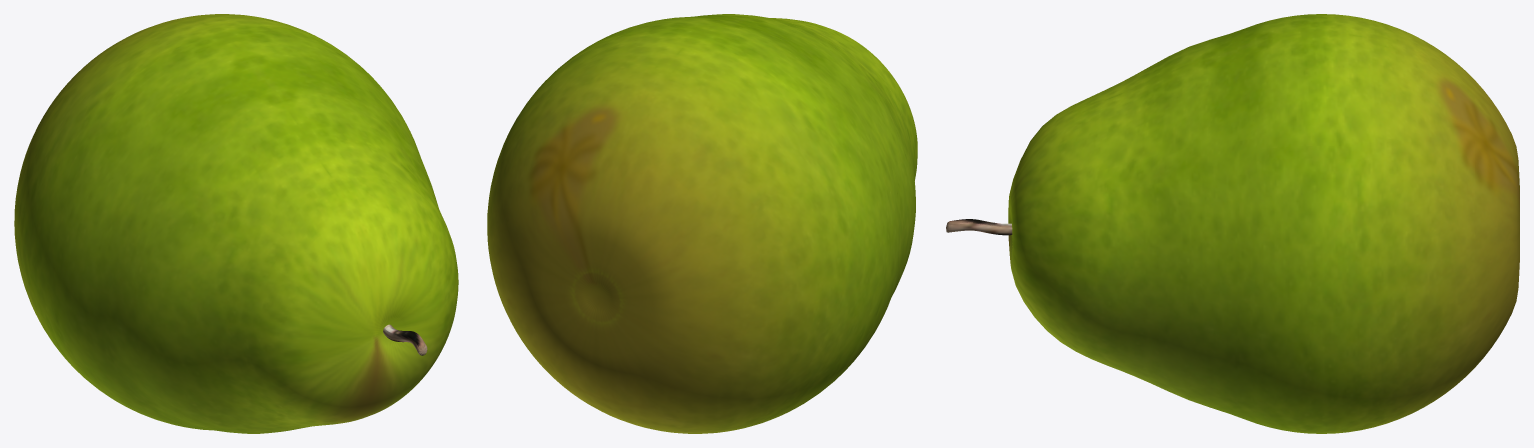
The model's file is pear.obj.
3 views of the same model, side by side, from view 1: azimuth 30°, elevation 25°; view 2: azimuth 150°, elevation 25°; view 3: azimuth 270°, elevation 25° (orthographic).
Parts seen in each view (by area): view 1: Sphere001; view 2: Sphere001; view 3: Sphere001.
Part boxes in pixels (x1,y1,x2,y2): Sphere001: (14, 14, 458, 433); Sphere001: (487, 14, 917, 433); Sphere001: (946, 14, 1519, 433).
Size of the model in its own units: 35.86 by 35.86 by 48.99.
1 material, 1 textured.
